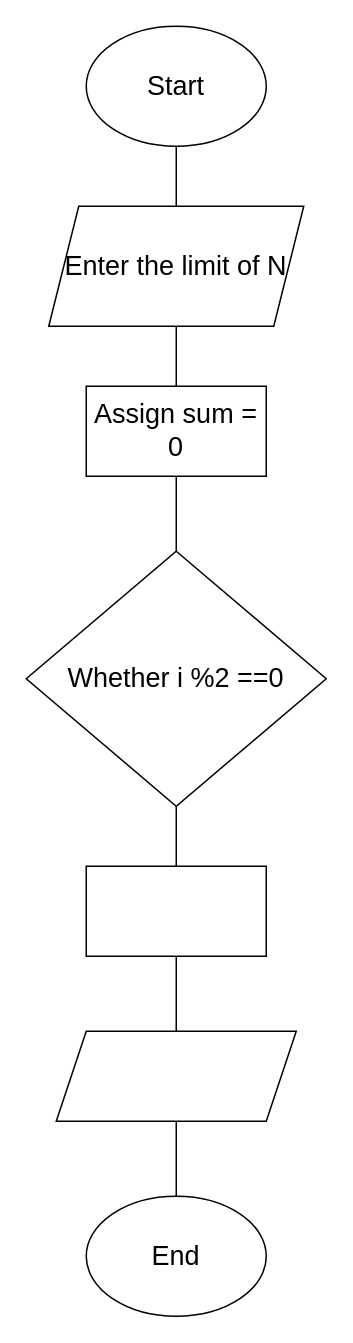
Image size: 353x1343. Some labels were removed from this diagram. The box of each missing label's shape, as (x1, y1, x2, y2) in pixels:
Disply the Sum: (55, 1030, 296, 1121)
sum = sum + 2: (85, 865, 266, 956)
